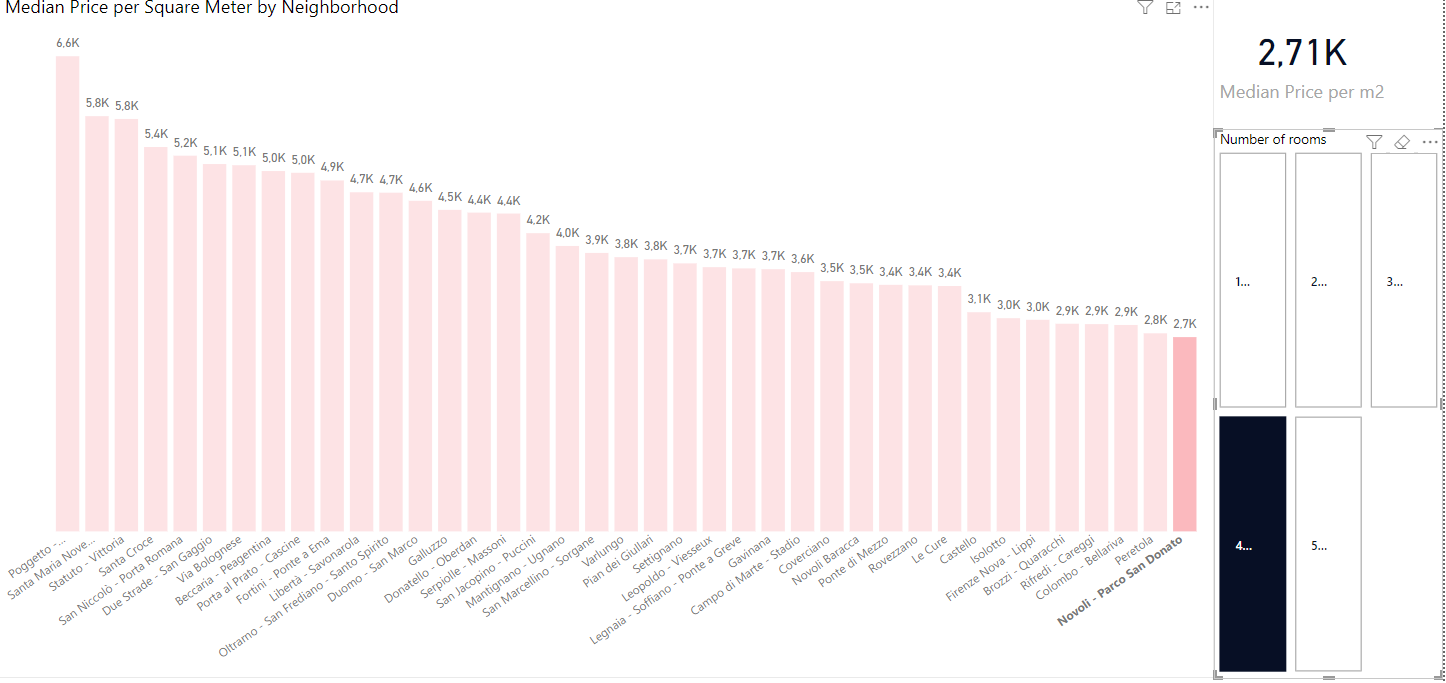

What the dashboard file says about the page in this screenshot:
{"tool":"powerbi","page":{"name":"Neighborhood Price Analysis","canvas":[1280,720],"ordinal":0},"visuals":[{"type":"clusteredColumnChart","title":"Median Price per Square Meter by Neighborhood","fields":{"Category":["Firenze Idealista.Neighborhood"],"Y":["Firenze Idealista.Median Price per m2"]},"box":[0,0,1077.3,606.5],"z":0},{"type":"card","fields":{"Values":["Firenze Idealista.Median Price per m2"]},"box":[1030.3,0,250,119.7],"z":1000},{"type":"advancedSlicerVisual","fields":{"Values":["Firenze Idealista.Number of rooms"]},"box":[1077,120,203,487],"z":2000}]}

Visuals, with their boxes on the page's 1280x720 design canvas (x1, y1, x2, y2). These are canvas units, not pixel positions in the 1446x683 screenshot, which may show the page scaled, cropped or inside an application window:
"Median Price per Square Meter by Neighborhood" clusteredColumnChart: locate(0, 0, 1077, 606)
card - Firenze Idealista.Median Price per m2: locate(1030, 0, 1280, 120)
advancedSlicerVisual - Firenze Idealista.Number of rooms: locate(1077, 120, 1280, 607)
